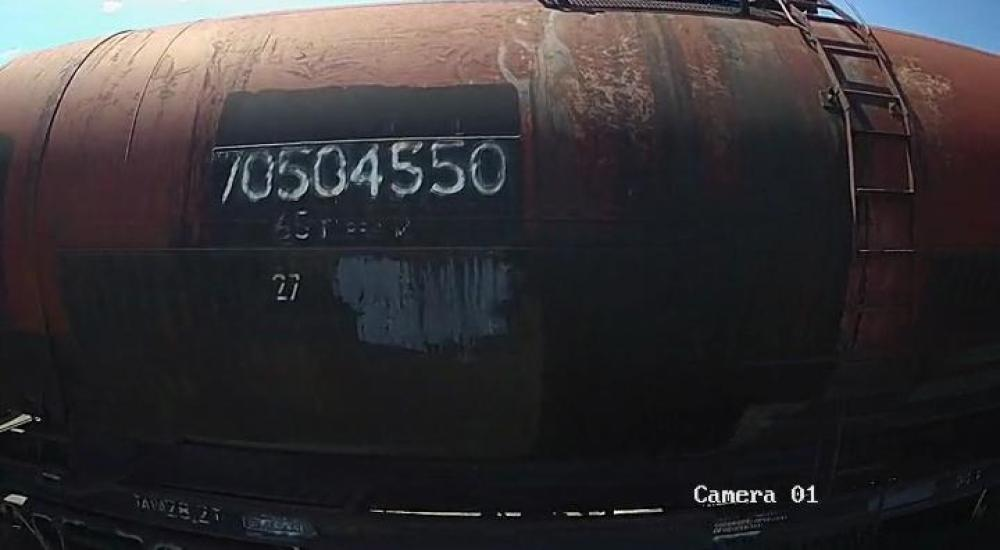Wagon-number: (206, 141, 511, 205)
